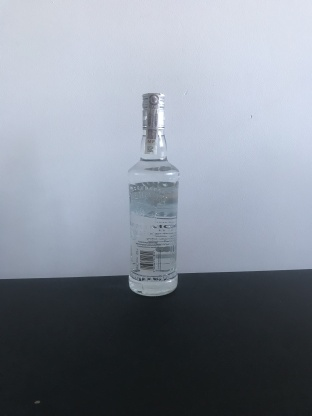nakretka: (140, 89, 167, 132)
